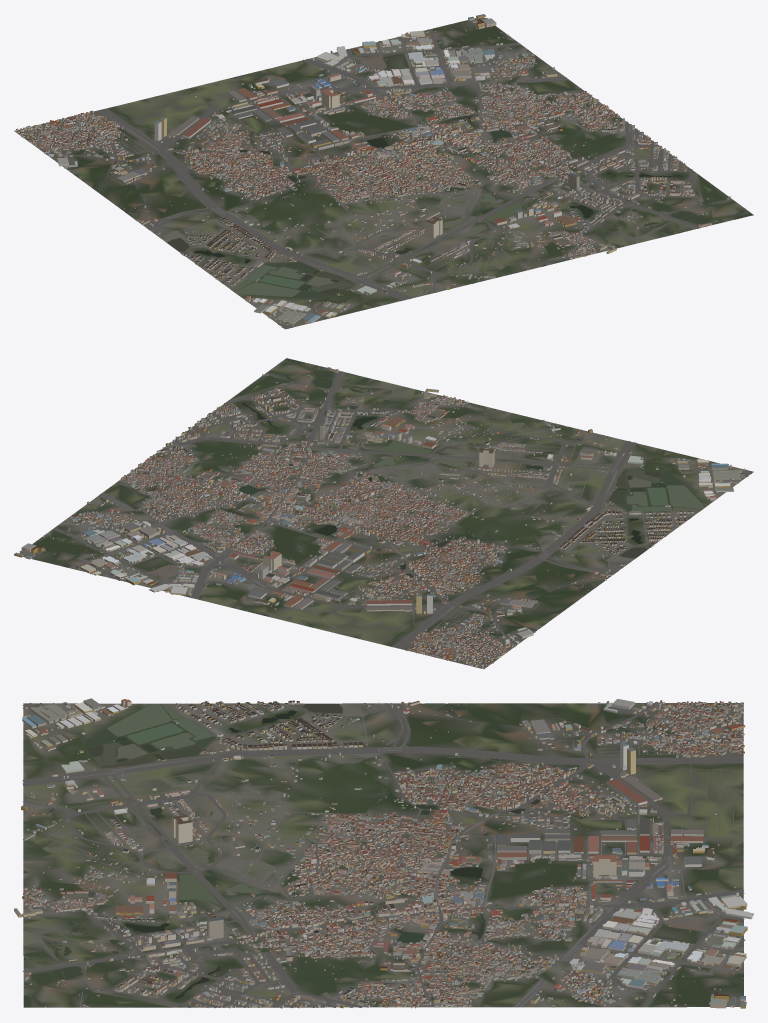
3 views of the same model, one above another, from view 1: azimuth 30°, elevation 25°; view 2: azimuth 150°, elevation 25°; view 3: azimuth 270°, elevation 25° (orthographic). The views are drawn at different scales.
Parts seen in each view (by area): view 1: ground, buildings, roads, water; view 2: ground, buildings, roads, water; view 3: ground, buildings, roads, water.
Part boxes in pixels (box(x1,y1,x2,y2)): ground: box(14, 17, 753, 329); buildings: box(15, 14, 745, 326); roads: box(15, 29, 732, 328); water: box(126, 114, 753, 298); ground: box(19, 360, 753, 668); buildings: box(14, 363, 744, 668); roads: box(54, 371, 751, 668); water: box(220, 358, 704, 588); ground: box(23, 703, 743, 1007); buildings: box(14, 698, 753, 1008); roads: box(22, 703, 745, 1008); water: box(23, 703, 540, 1007).
Bounding box in the file's own units: 2845 × 105 × 2880.
